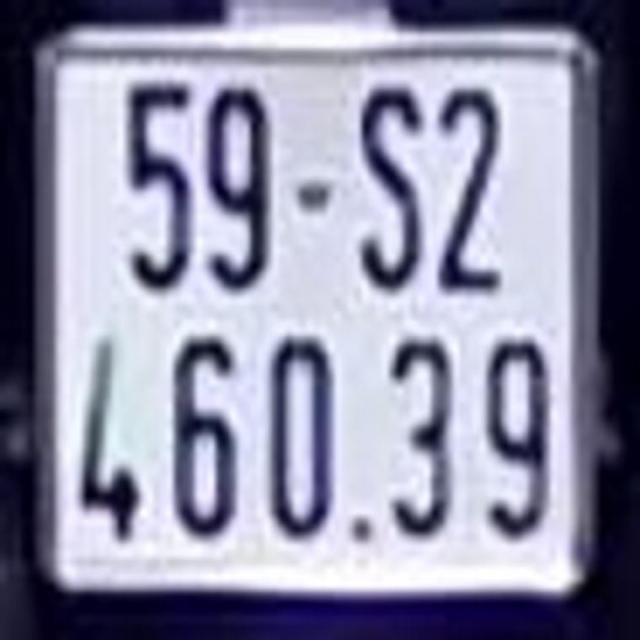0: (273, 328, 334, 531)
2: (439, 83, 506, 295)
3: (392, 334, 450, 526)
4: (77, 334, 142, 536)
5: (122, 74, 196, 288)
6: (172, 329, 240, 538)
9: (484, 332, 551, 535), (208, 85, 268, 288)
S: (357, 80, 427, 295)
